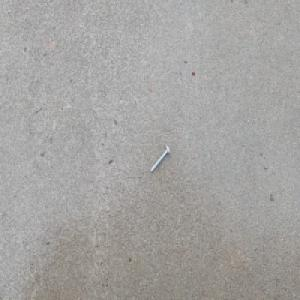Nail: (149, 144, 170, 174)
